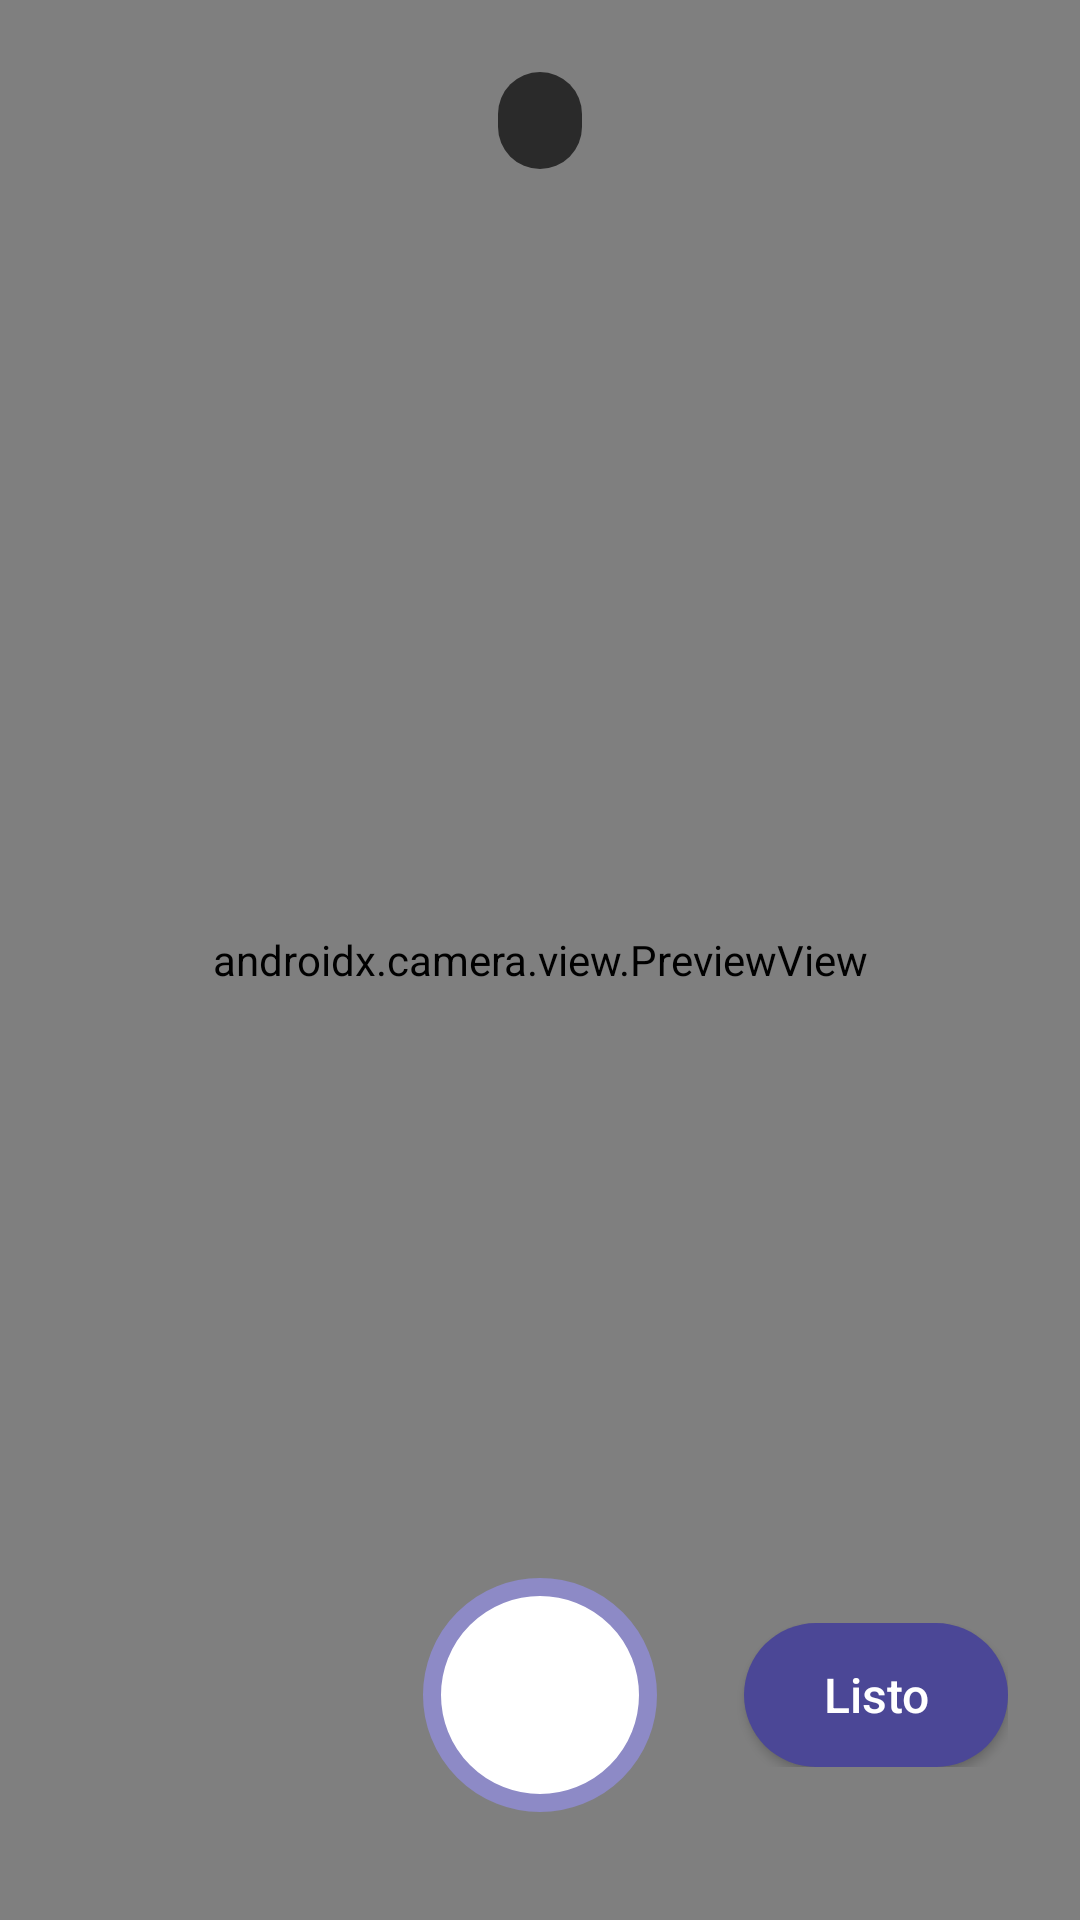

Named icons in this screenshot (1080px x 1920px) and their centers, [x,y]:
Sacar foto: [540,1695]
